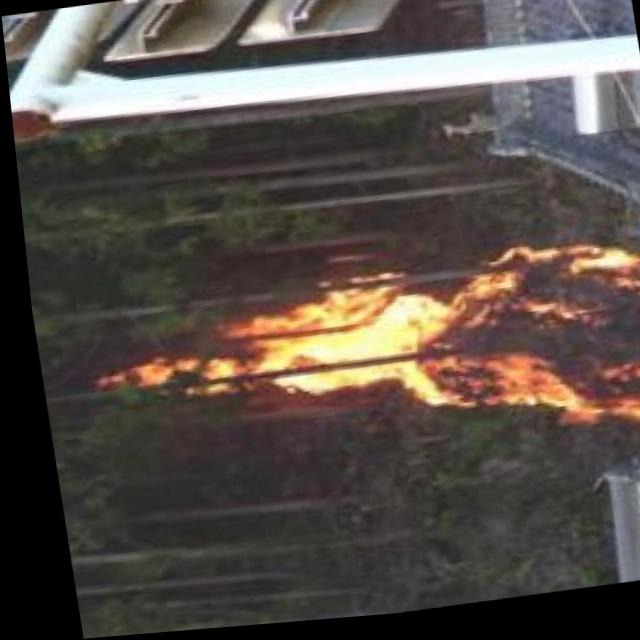Fire: (102, 236, 640, 480)
